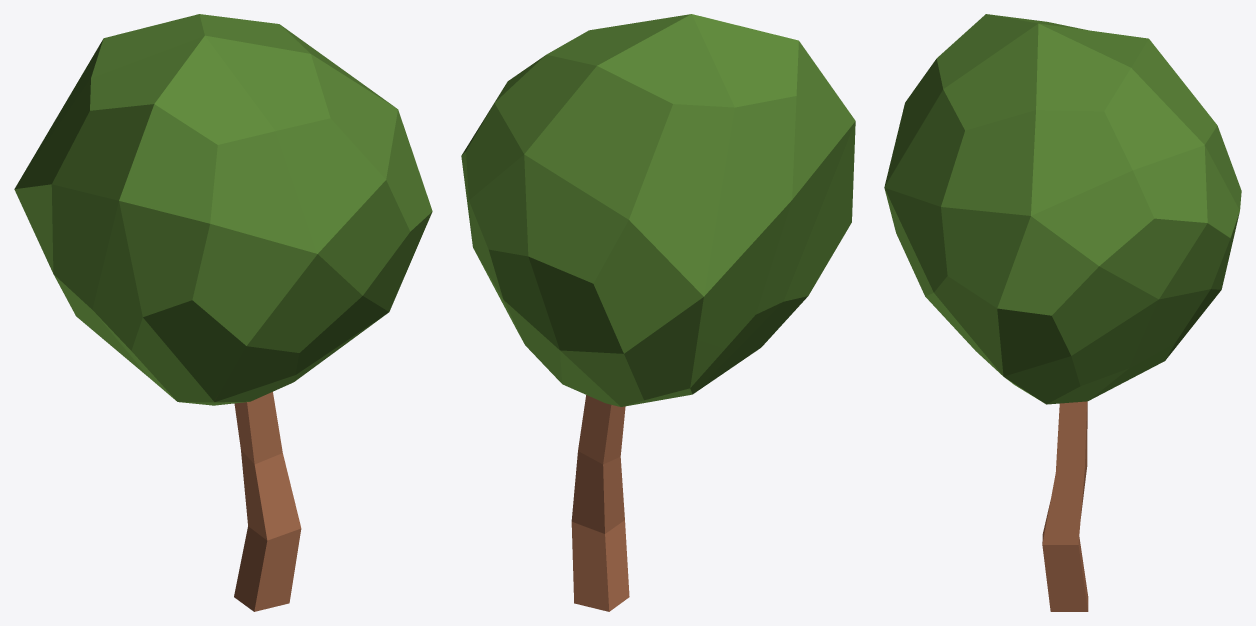
File: tree-3.glb
3 renders of one model, left to right at view 1: azimuth 30°, elevation 25°; view 2: azimuth 150°, elevation 25°; view 3: azimuth 270°, elevation 25°, orthographic. The views are drawn at different scales.
Parts seen in each view (by area): view 1: Tree 3_0; view 2: Tree 3_0; view 3: Tree 3_0.
Boxes of the visible parts, <box> form: Tree 3_0: <box>14,14,432,611</box>; Tree 3_0: <box>461,14,855,611</box>; Tree 3_0: <box>884,14,1241,611</box>.
Size of the model in its own units: 3.65 by 6.15 by 3.64.
1 material, 1 textured.
